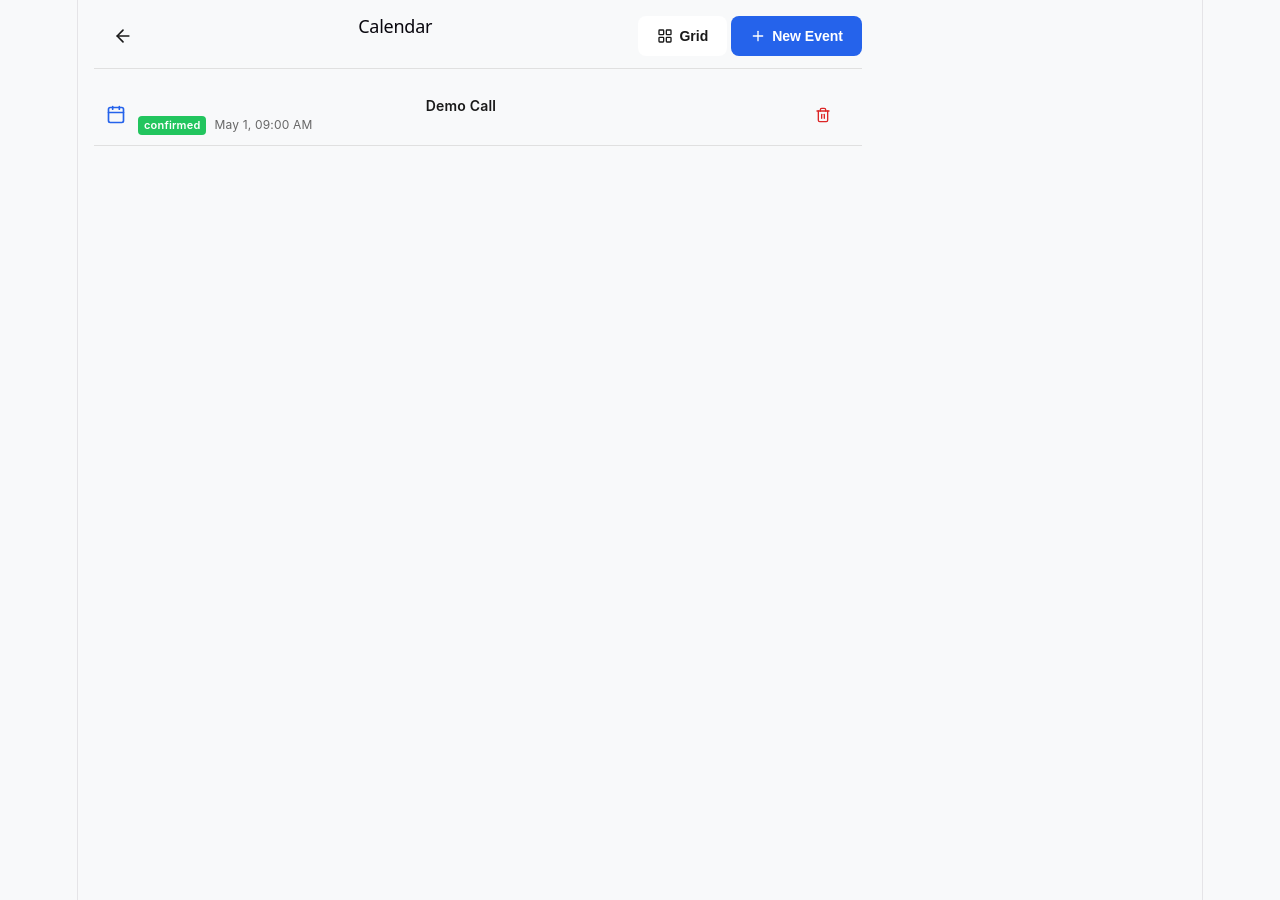
CalendarManager › shows public share controls in event detail, hidden URL when disabled
Step 1. Click the text "Demo Call" → (461, 106), box [426,97,496,114]
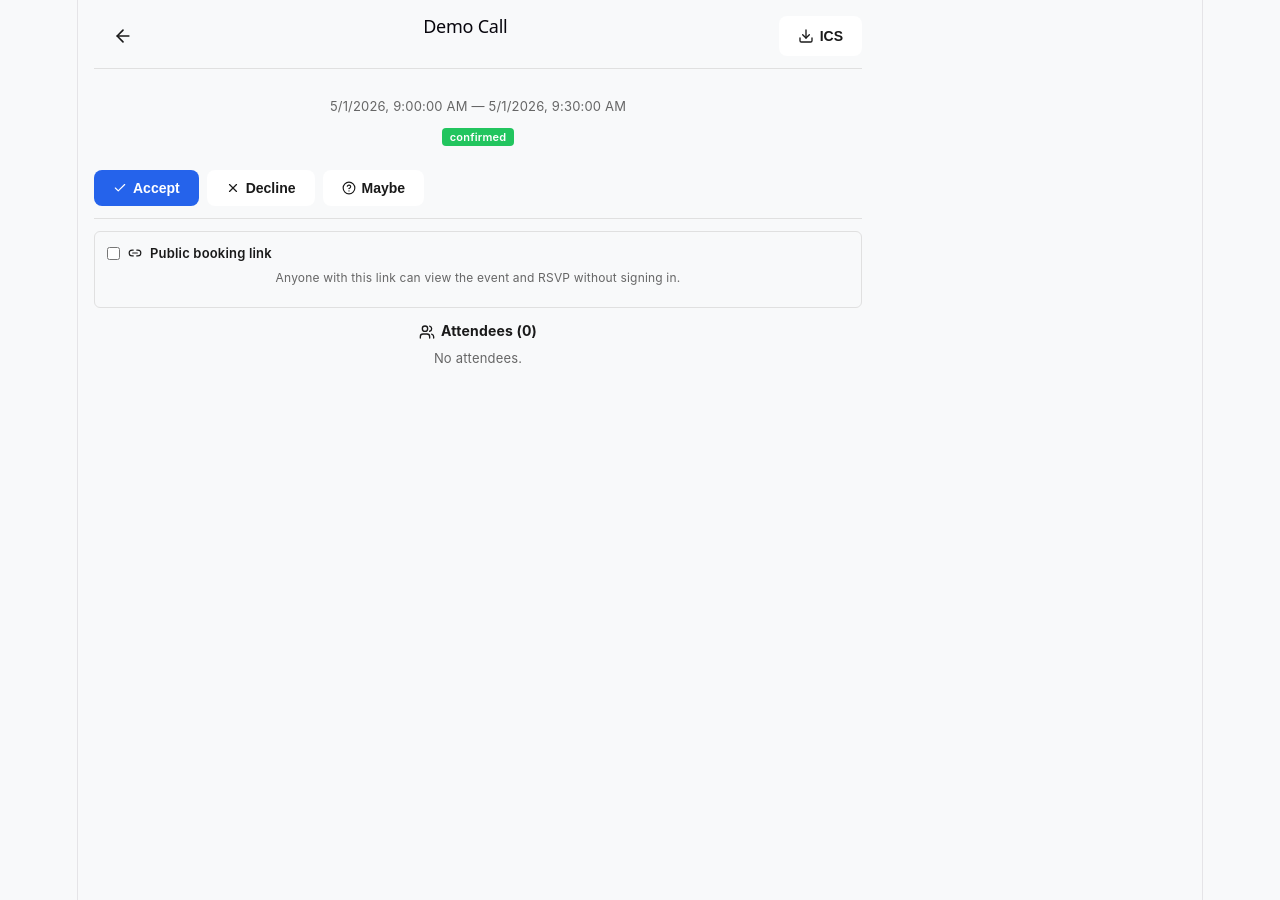
Expected: the element with test id "public-share-section" is shown, [94,230,862,308]
Expected: the text "Public booking link" is shown, [107,244,272,260]
